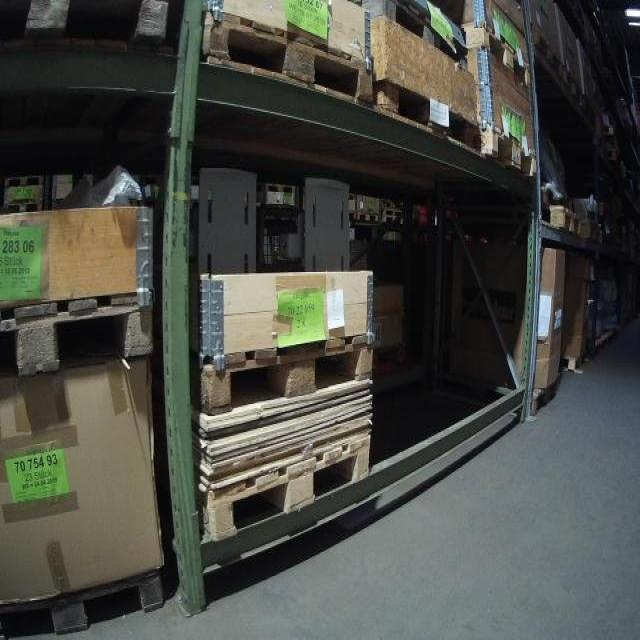pallet: (200, 434, 372, 546), (200, 10, 375, 109), (190, 329, 377, 418), (0, 288, 158, 384), (0, 562, 171, 640), (375, 72, 479, 152), (362, 0, 467, 68), (460, 20, 532, 89), (480, 123, 538, 179), (533, 28, 563, 74), (546, 205, 584, 236), (532, 376, 558, 413), (2, 199, 42, 215), (3, 174, 41, 189), (264, 179, 295, 194), (563, 353, 588, 371), (357, 210, 378, 223), (382, 214, 405, 225), (383, 207, 405, 216)
